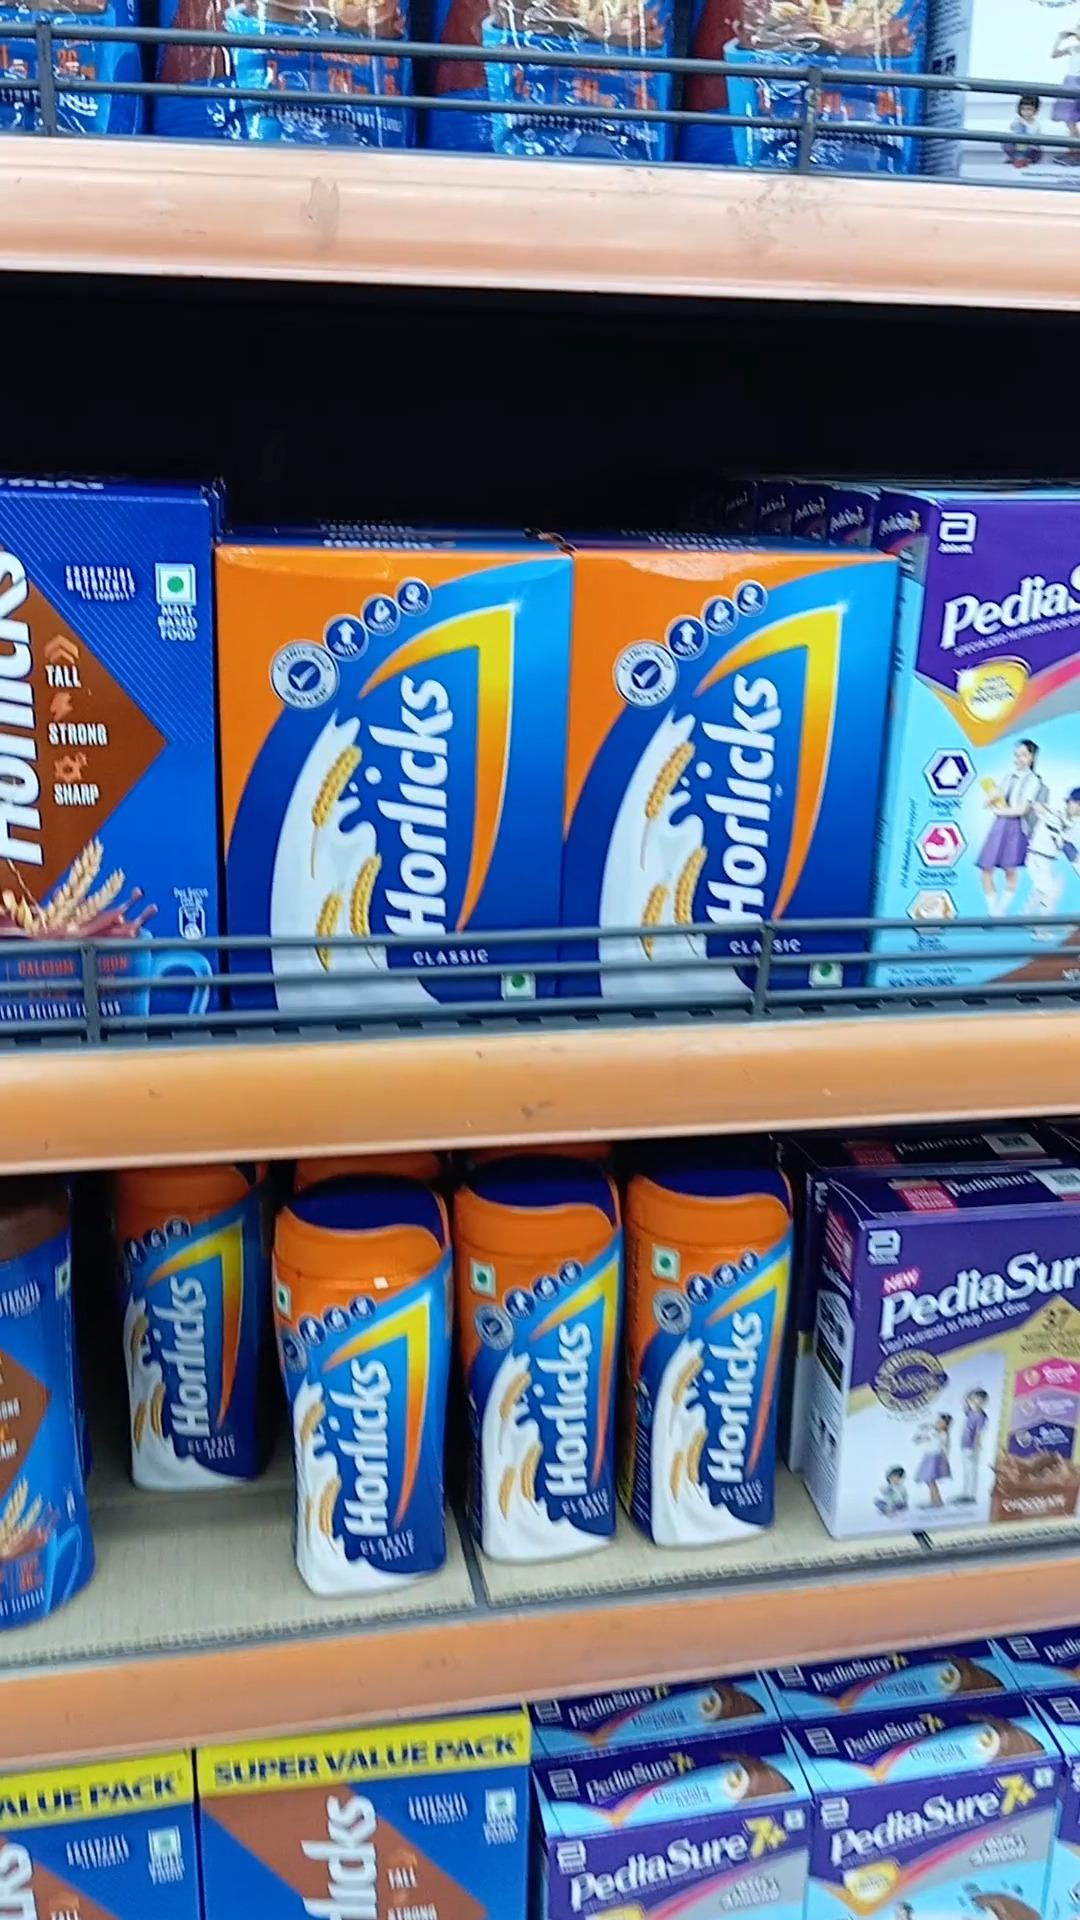HORLICK_CLASSIC_MALT_500_G_JAR: (277, 1193, 450, 1592), (626, 1160, 786, 1551), (468, 1176, 611, 1564), (113, 1166, 258, 1501)
HORLICK_CLASSIC_MALT_500_G_PACK: (227, 547, 554, 1010), (570, 545, 865, 1002)
PEDIASURE_CHOCOLATE_500_G_PACK: (847, 1208, 1080, 1536)
